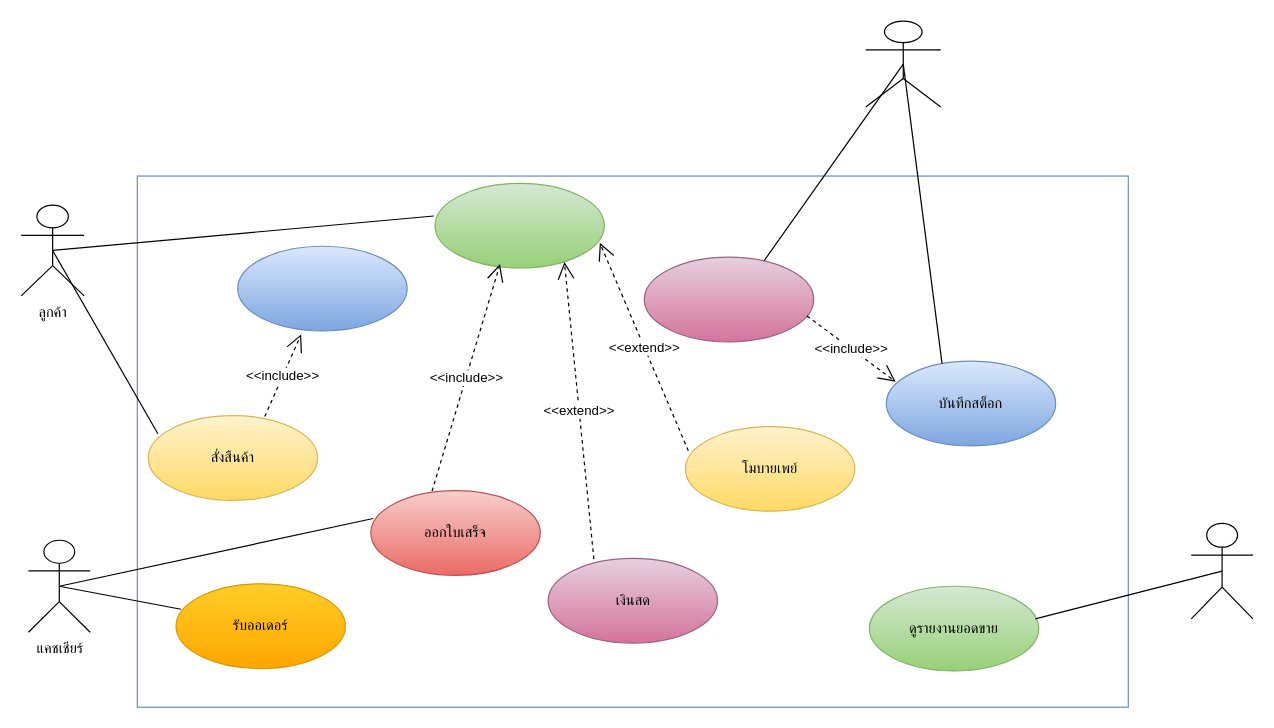
Some shapes in this 1274 by 728 pixel diagram are drawn without their labels. The centre of each missing label's shape, as x and y in pixels:
"ชำระเงิน" belongs at pixel 519 225.
"บาริสต้า" belongs at pixel 903 63.
"ผลิตเครื่องดื่ม" belongs at pixel 728 299.
"ผู้จัดการร้าน" belongs at pixel 1221 570.
"เลือกขนาดสินค้า" belongs at pixel 322 288.
